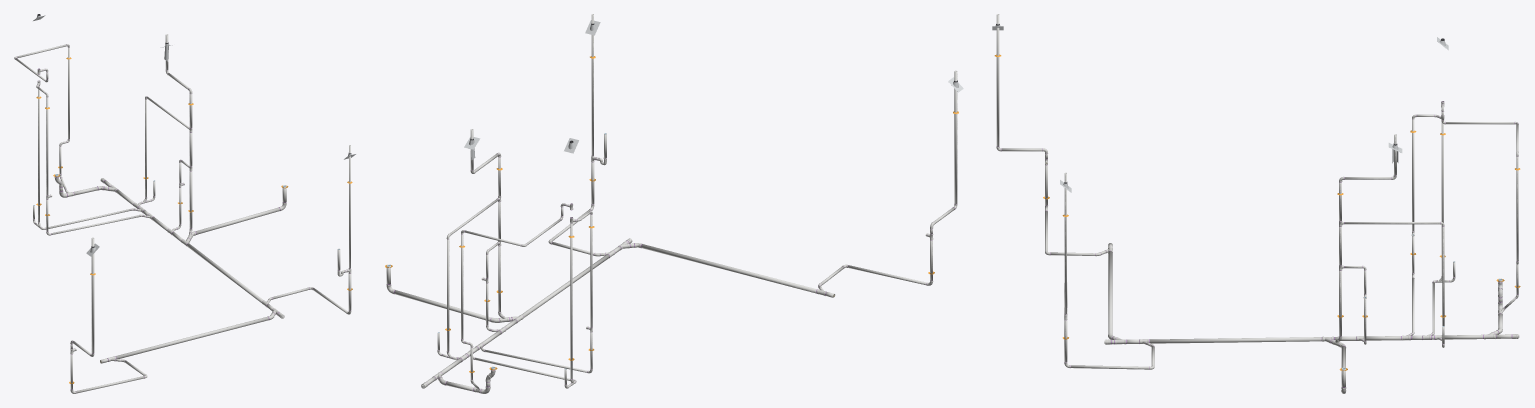
Rendered from pipes_dwv__common.glb.
3 views of the same model, side by side, from view 1: azimuth 30°, elevation 25°; view 2: azimuth 150°, elevation 25°; view 3: azimuth 270°, elevation 25° (orthographic). The views are drawn at different scales.
Parts seen in each view (by area): view 1: pipe_dwv_building_drain_west, pipe_dwv_building_drain, vent_dwv_master_stack, vent_dwv_hallbath_toilet, vent_dwv_kitchen, pipe_dwv_master_toilet, pipe_dwv_kitchen, pipe_dwv_laundry, pipe_dwv_hallbath_vanity, vent_dwv_hallbath_vanity, vent_dwv_master_tub, pipe_dwv_hallbath_tub; view 2: pipe_dwv_building_drain_west, pipe_dwv_building_drain, vent_dwv_hallbath_toilet, pipe_dwv_master_toilet, vent_dwv_master_stack, vent_dwv_kitchen, pipe_dwv_kitchen, pipe_dwv_laundry, vent_dwv_master_tub; view 3: pipe_dwv_building_drain, vent_dwv_hallbath_toilet, vent_dwv_master_stack, vent_dwv_kitchen, pipe_dwv_laundry, vent_dwv_master_tub, pipe_dwv_kitchen, pipe_dwv_building_drain_west.
Boxes of the visible parts, <box> form: pipe_dwv_building_drain_west: <box>100,312,274,363</box>; pipe_dwv_building_drain: <box>103,180,280,315</box>; vent_dwv_master_stack: <box>165,34,192,232</box>; vent_dwv_hallbath_toilet: <box>14,44,69,189</box>; vent_dwv_kitchen: <box>70,237,94,356</box>; pipe_dwv_master_toilet: <box>187,185,286,240</box>; pipe_dwv_kitchen: <box>70,354,147,393</box>; pipe_dwv_laundry: <box>267,269,351,314</box>; pipe_dwv_hallbath_vanity: <box>46,200,146,235</box>; vent_dwv_hallbath_vanity: <box>36,84,48,195</box>; vent_dwv_master_tub: <box>145,96,188,197</box>; pipe_dwv_hallbath_tub: <box>33,205,137,229</box>; pipe_dwv_building_drain_west: <box>630,243,835,297</box>; pipe_dwv_building_drain: <box>426,241,628,385</box>; vent_dwv_hallbath_toilet: <box>461,203,567,389</box>; pipe_dwv_master_toilet: <box>386,264,511,322</box>; vent_dwv_master_stack: <box>470,129,502,317</box>; vent_dwv_kitchen: <box>930,70,957,233</box>; pipe_dwv_kitchen: <box>818,240,933,289</box>; pipe_dwv_laundry: <box>548,157,605,256</box>; vent_dwv_master_tub: <box>446,198,498,351</box>; pipe_dwv_building_drain: <box>1112,334,1511,344</box>; vent_dwv_hallbath_toilet: <box>1441,104,1518,308</box>; vent_dwv_master_stack: <box>1337,134,1396,341</box>; vent_dwv_kitchen: <box>996,14,1047,158</box>; pipe_dwv_laundry: <box>1064,313,1154,369</box>; vent_dwv_master_tub: <box>1344,222,1444,325</box>; pipe_dwv_kitchen: <box>1045,163,1106,256</box>; pipe_dwv_building_drain_west: <box>1108,243,1116,339</box>.
Size of the model in its own units: 9.55 by 5.8 by 10.9.
